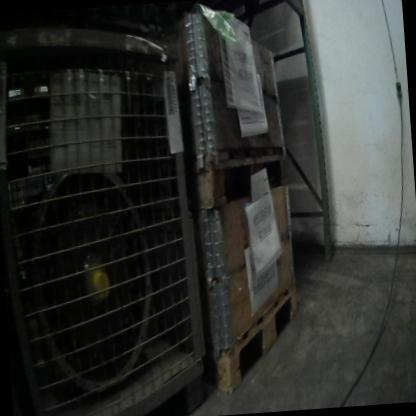pallet: (204, 284, 313, 408), (188, 143, 290, 208)
stillage: (0, 6, 215, 416)
